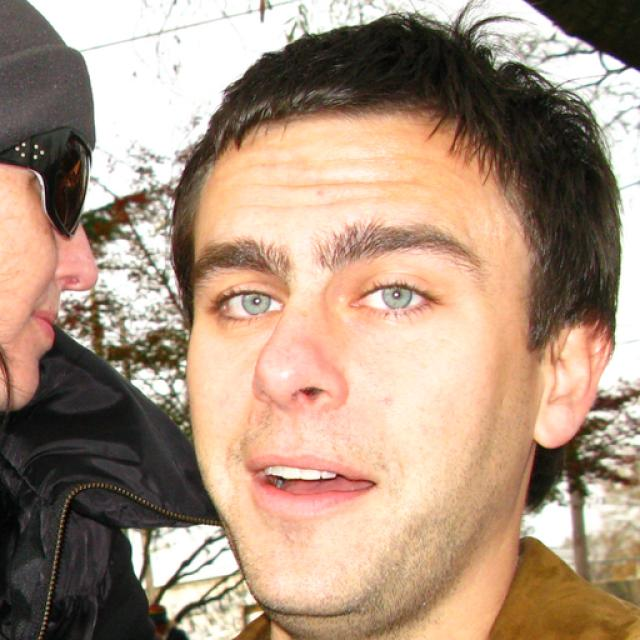Wrinkle: (280, 164, 469, 200), (312, 145, 454, 177), (248, 186, 386, 214)
